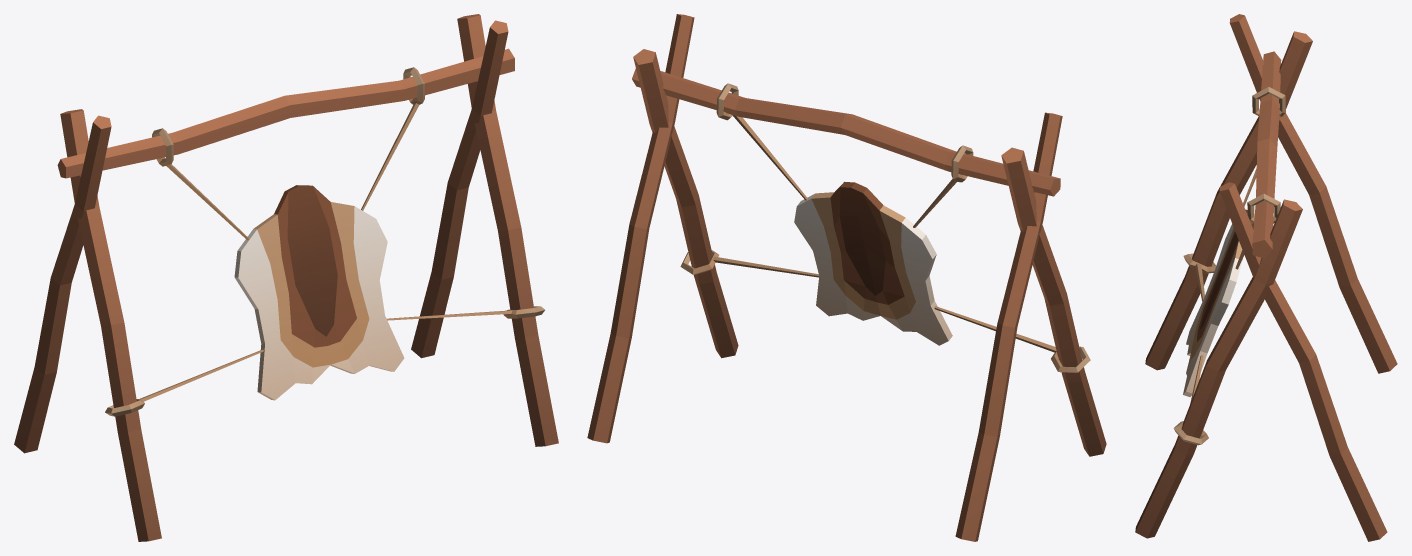
The model's file is leathertanningrack.fbx.
3 renders of one model, left to right at view 1: azimuth 30°, elevation 25°; view 2: azimuth 150°, elevation 25°; view 3: azimuth 270°, elevation 25°, orthographic. The views are drawn at different scales.
Visible parts, largest first — view 1: LeatherTanningRack; view 2: LeatherTanningRack; view 3: LeatherTanningRack.
Part boxes in pixels (x1,y1,x2,y2): LeatherTanningRack: (14,14,558,541); LeatherTanningRack: (587,14,1106,541); LeatherTanningRack: (1135,14,1397,541).
Size of the model in its own units: 178 by 151 by 101.
